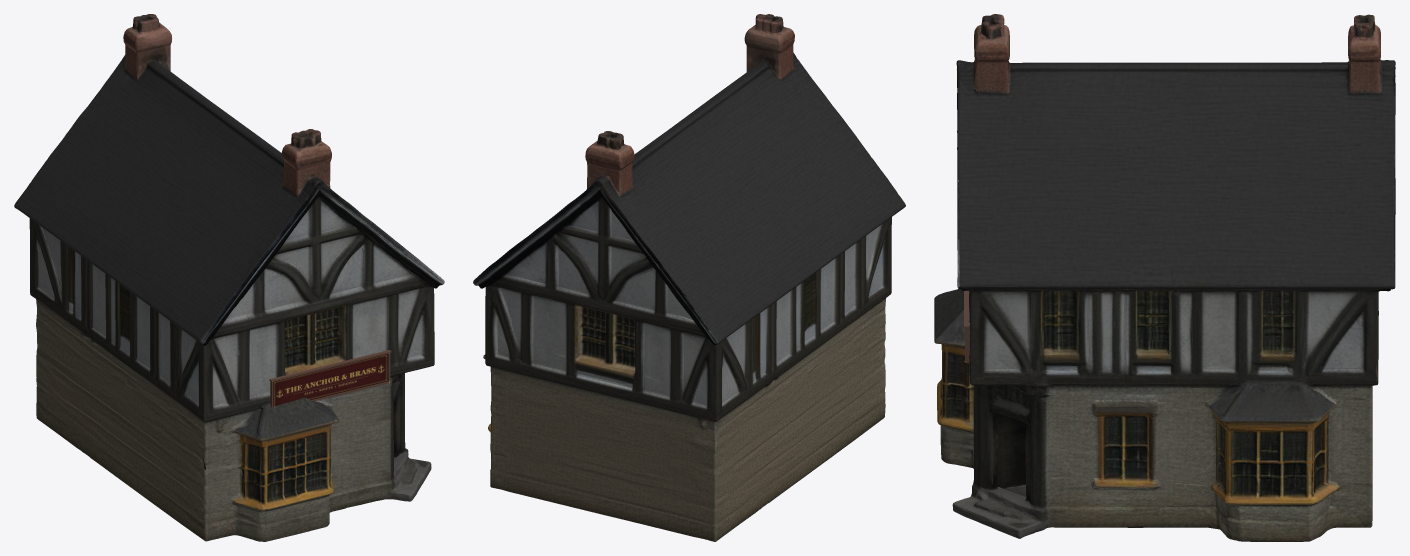
Rendered from town_tavern.glb.
3 renders of one model, left to right at view 1: azimuth 30°, elevation 25°; view 2: azimuth 150°, elevation 25°; view 3: azimuth 270°, elevation 25°, orthographic. The views are drawn at different scales.
Parts seen in each view (by area): view 1: TownTavern; view 2: TownTavern; view 3: TownTavern.
Part boxes in pixels (x1,y1,x2,y2): TownTavern: (14,14,444,541); TownTavern: (473,14,905,541); TownTavern: (934,14,1395,541).
Size of the model in its own units: 8.17 by 11 by 10.41.
Materials: 5 (2 with a texture image).
